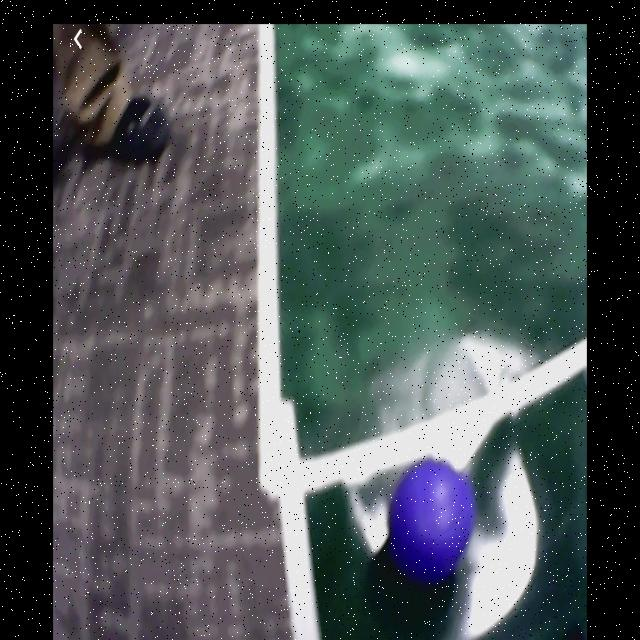ball: (389, 457, 475, 580)
